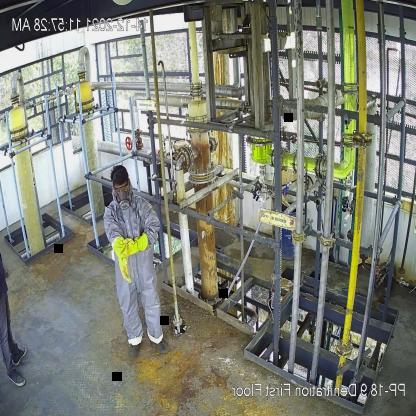goggles: (113, 182, 129, 192)
mask: (116, 190, 131, 210)
